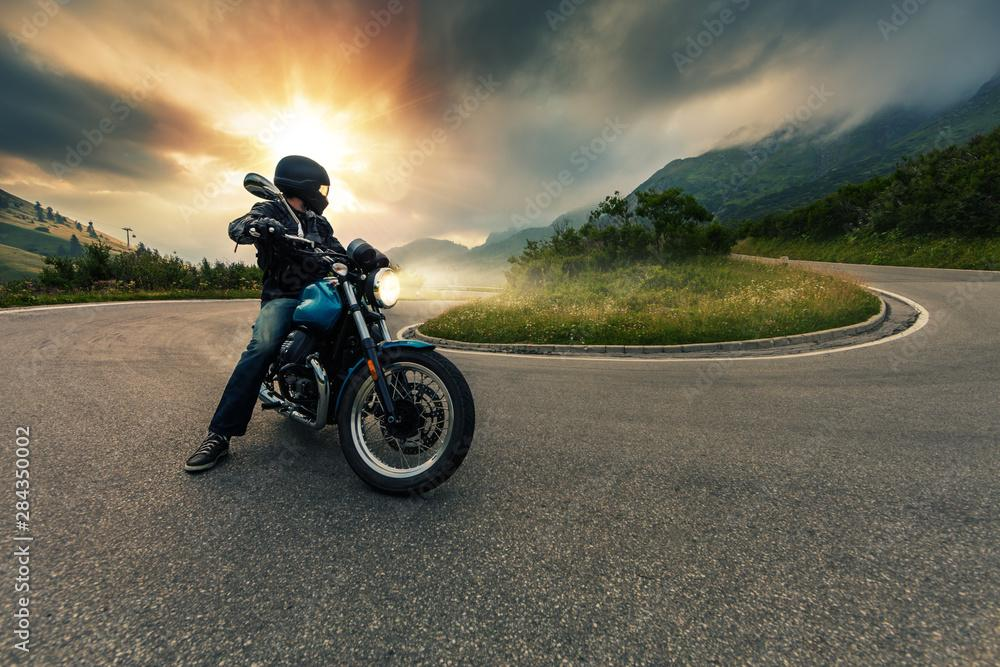helmet: (272, 154, 331, 216)
